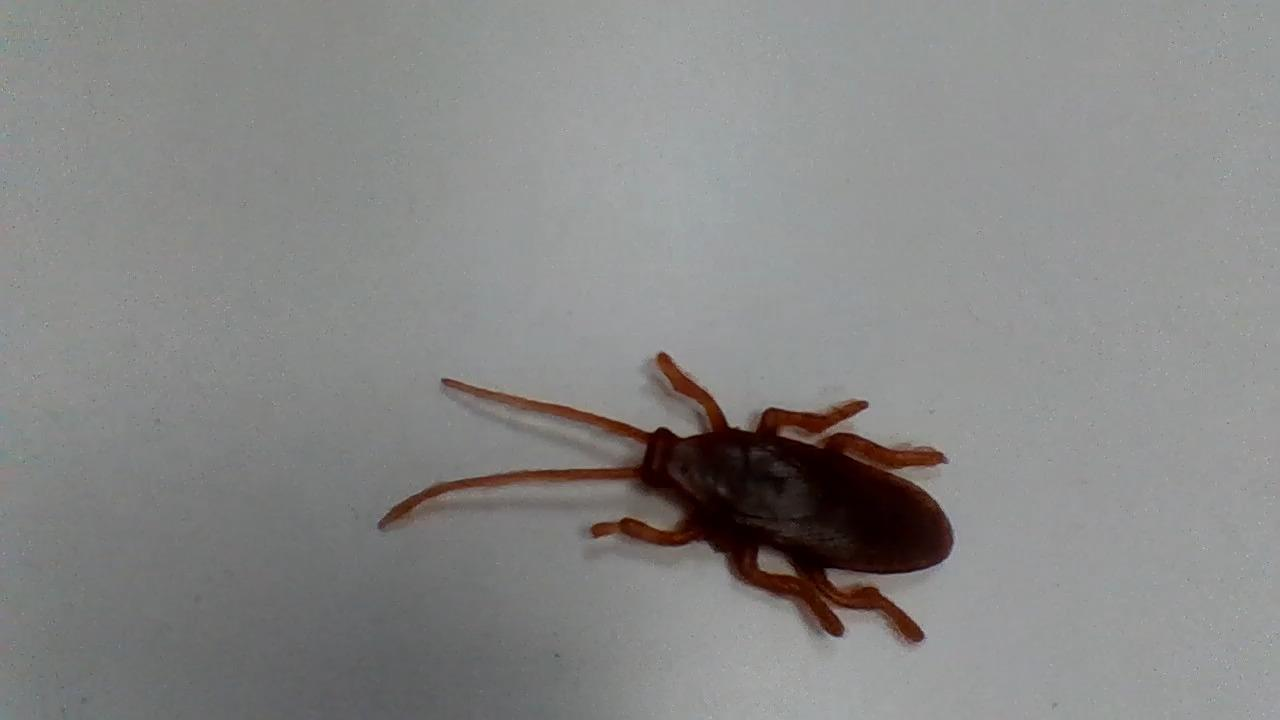cockroach: (373, 360, 958, 644)
